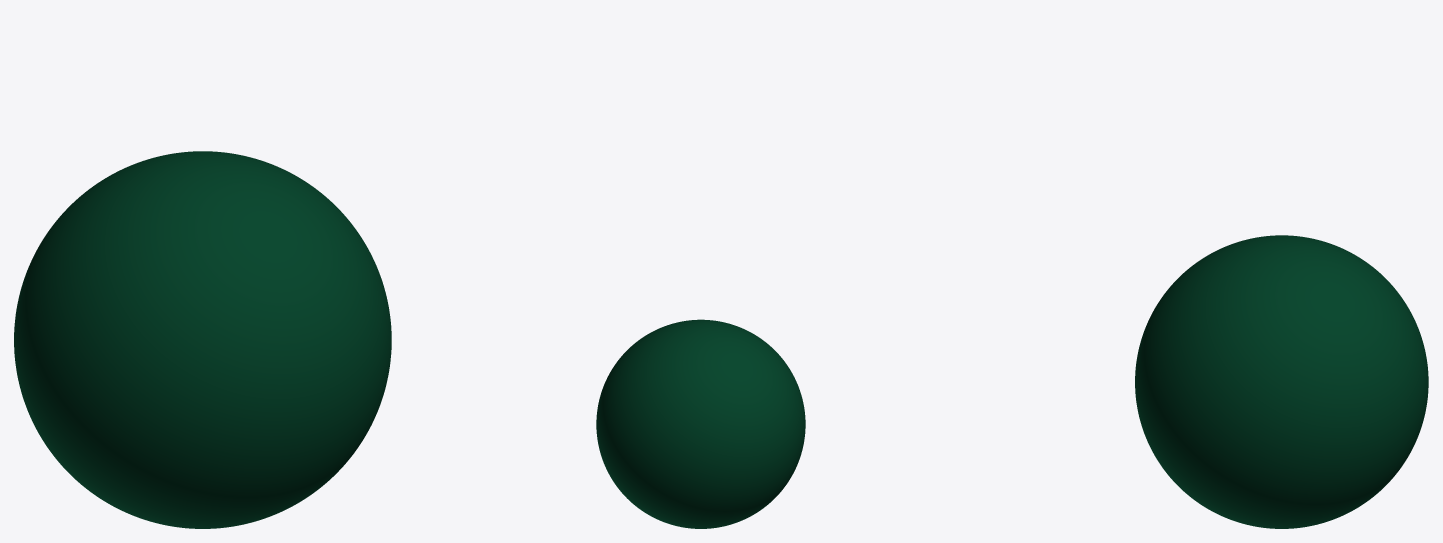
Rendered from sphere_diffuse.obj.
The picture shows the model from 3 angles, left to right: view 1: azimuth 30°, elevation 25°; view 2: azimuth 150°, elevation 25°; view 3: azimuth 270°, elevation 25°; orthographic projection. The views are drawn at different scales.
Visible parts, largest first — view 1: sphere; view 2: sphere; view 3: sphere.
Part boxes in pixels (x1,y1,x2,y2): sphere: (14, 151, 391, 528); sphere: (596, 319, 805, 528); sphere: (1135, 235, 1428, 528).
Size of what is drawn, in the model's own units: 2 by 4 by 4.
